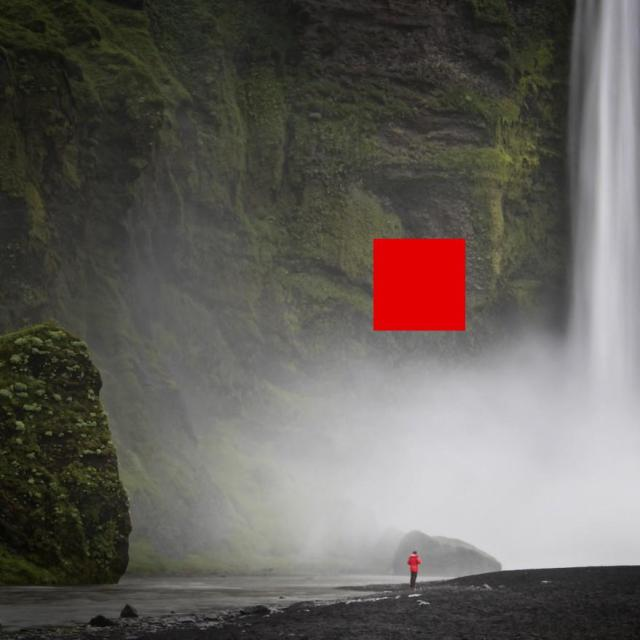RedSquare: (364, 230, 474, 340)
